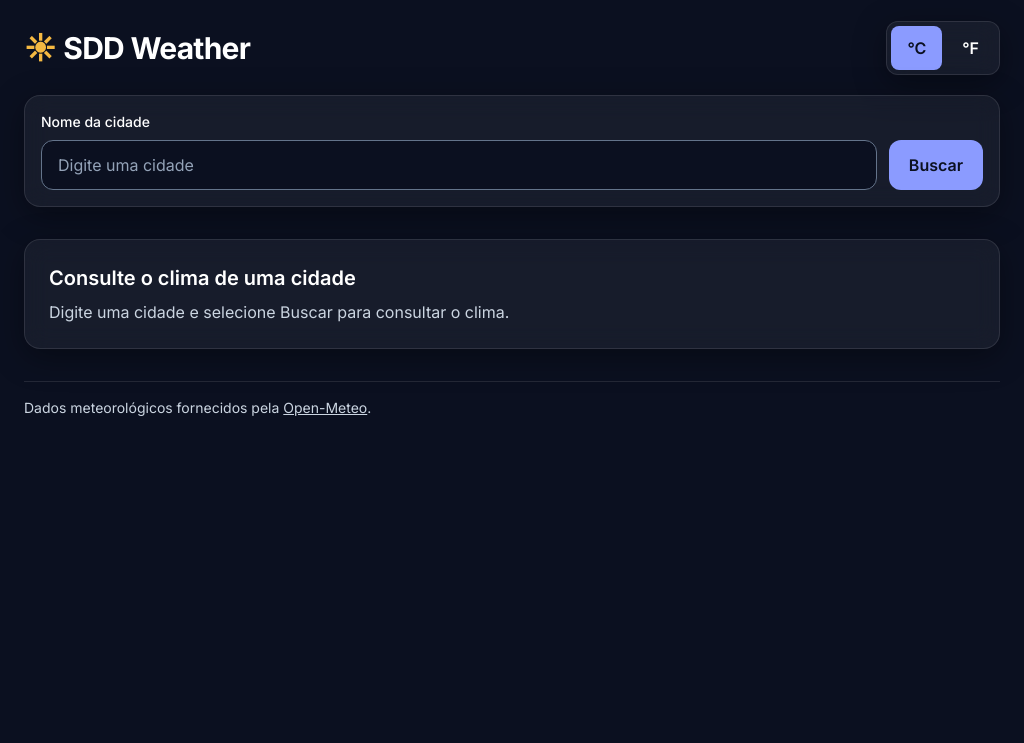
it: App › shows service error and retries the last search through ErrorState
The image size is (1024, 743).
Type "Lisboa" into the search field labelled "Nome da cidade" at (459, 165), box [41,140,877,190]
Then press Enter
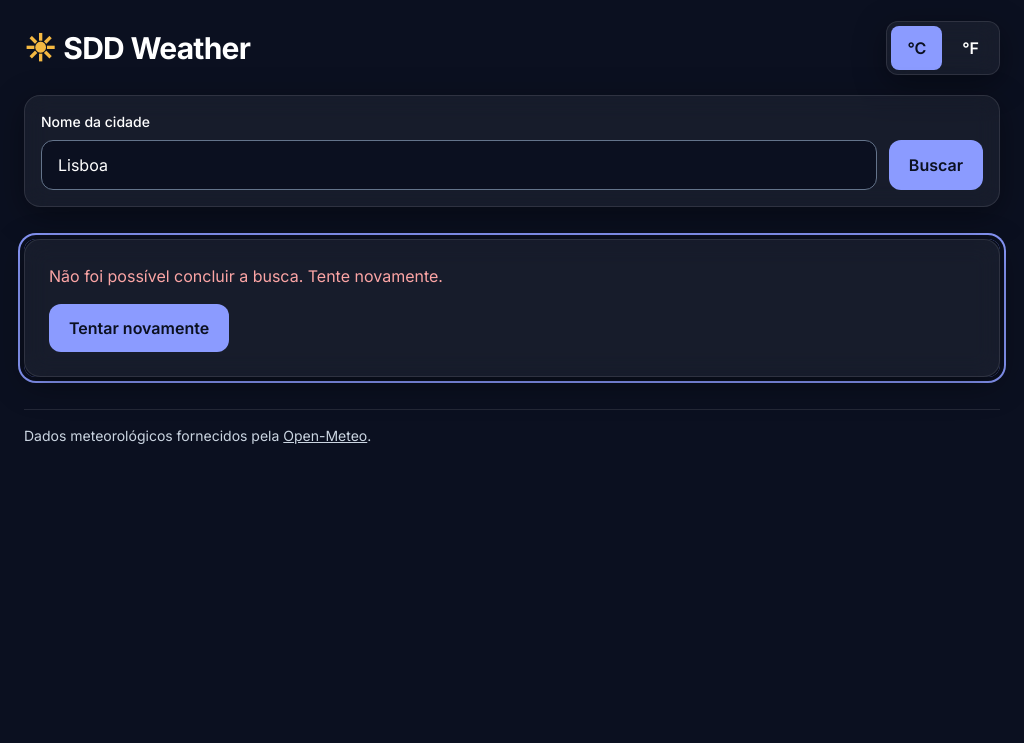
Expected: the message reads "Não foi possível concluir a busca. Tente novamente.", [49,266,443,286]
Click the button "Tentar novamente" at (139, 328), box [49,304,229,352]
(page scrolled)
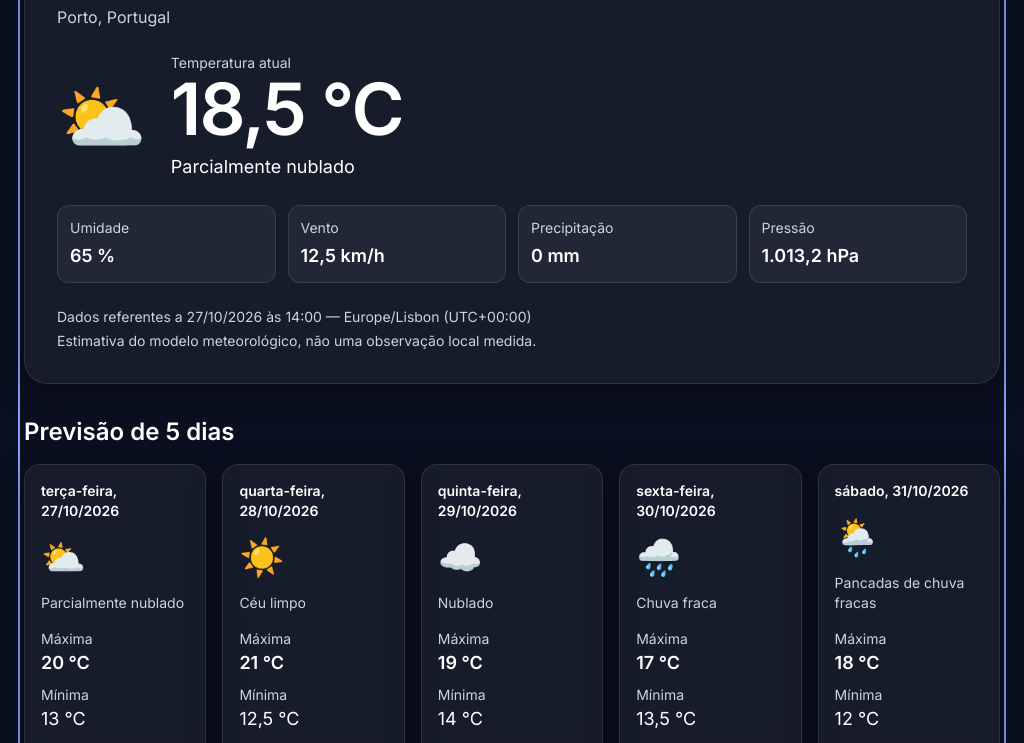
Expected: the message "Não foi possível concluir a busca. Tente novamente." is gone
